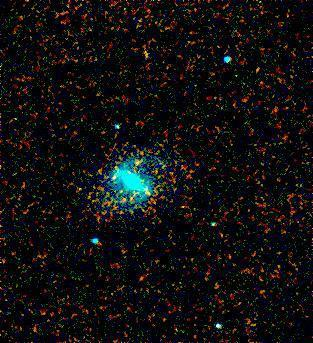star: (125, 152, 155, 182)
